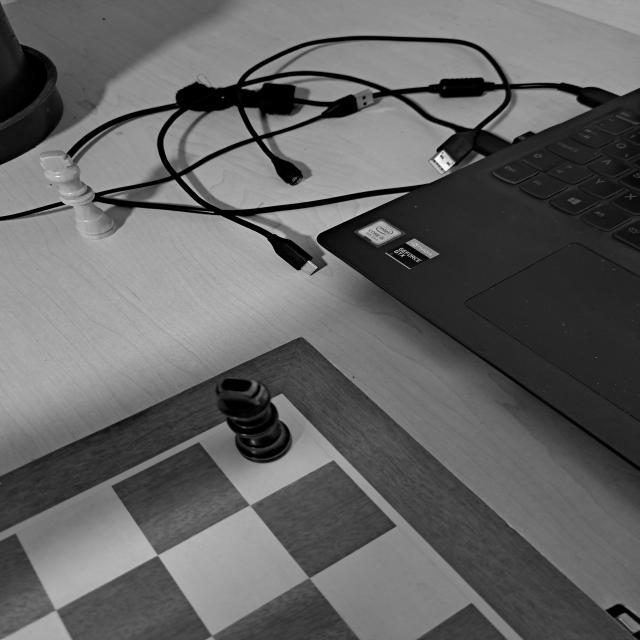chess-table-corners: (230, 377, 328, 430)
